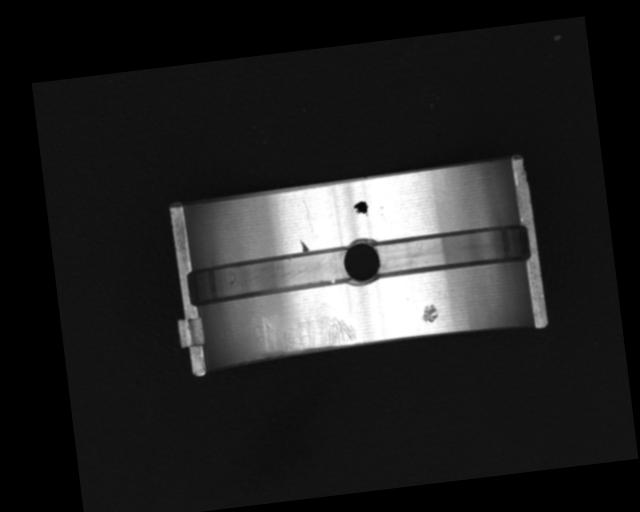blot: (351, 199, 369, 217)
bruise: (418, 301, 441, 324), (299, 238, 311, 253)
gap: (187, 246, 352, 308), (369, 221, 534, 280)
hole: (339, 236, 383, 289)
nick: (302, 197, 313, 234)
scratch: (251, 309, 359, 358)
